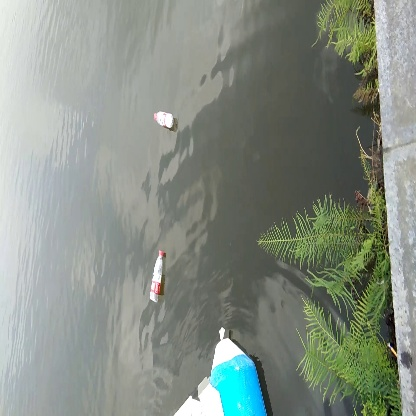bottle: (148, 248, 168, 307), (151, 106, 178, 131)
